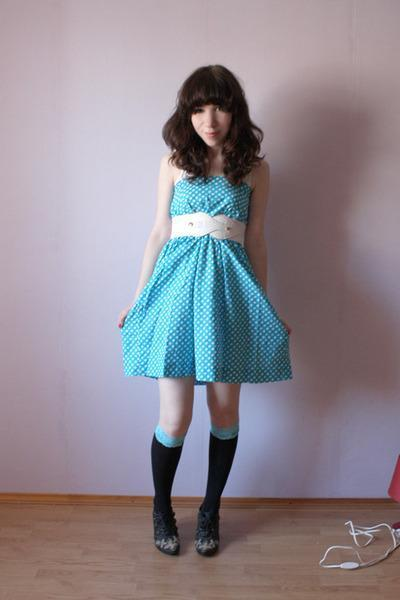dress: (120, 180, 291, 384)
shoe: (153, 510, 219, 556)
